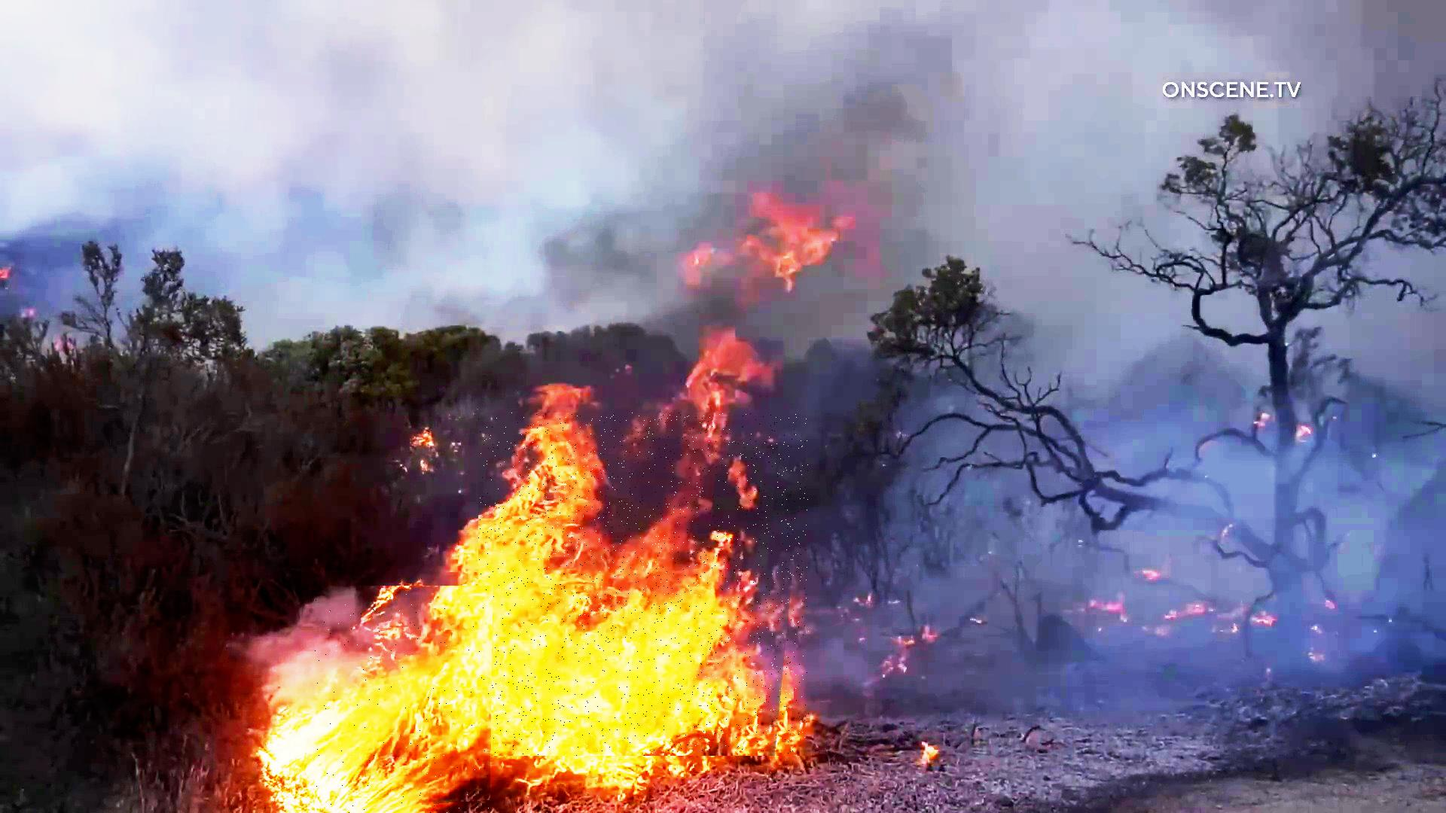fire: (479, 413, 809, 756), (315, 586, 493, 813)
